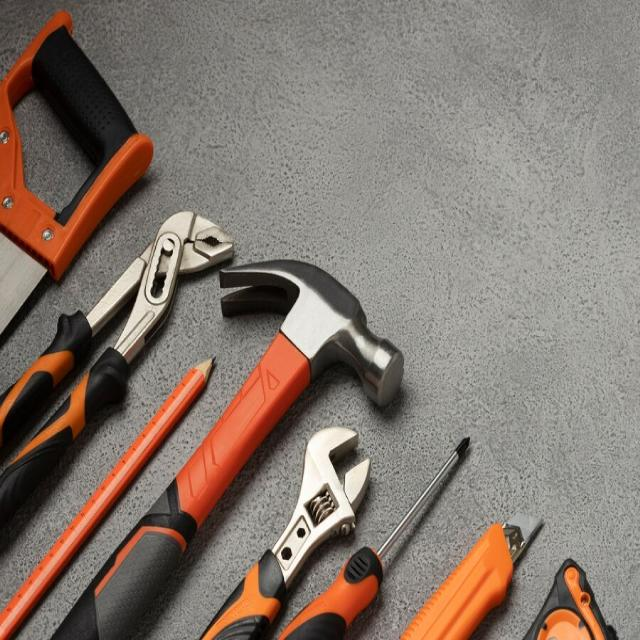Screwdriver: (279, 440, 469, 640)
